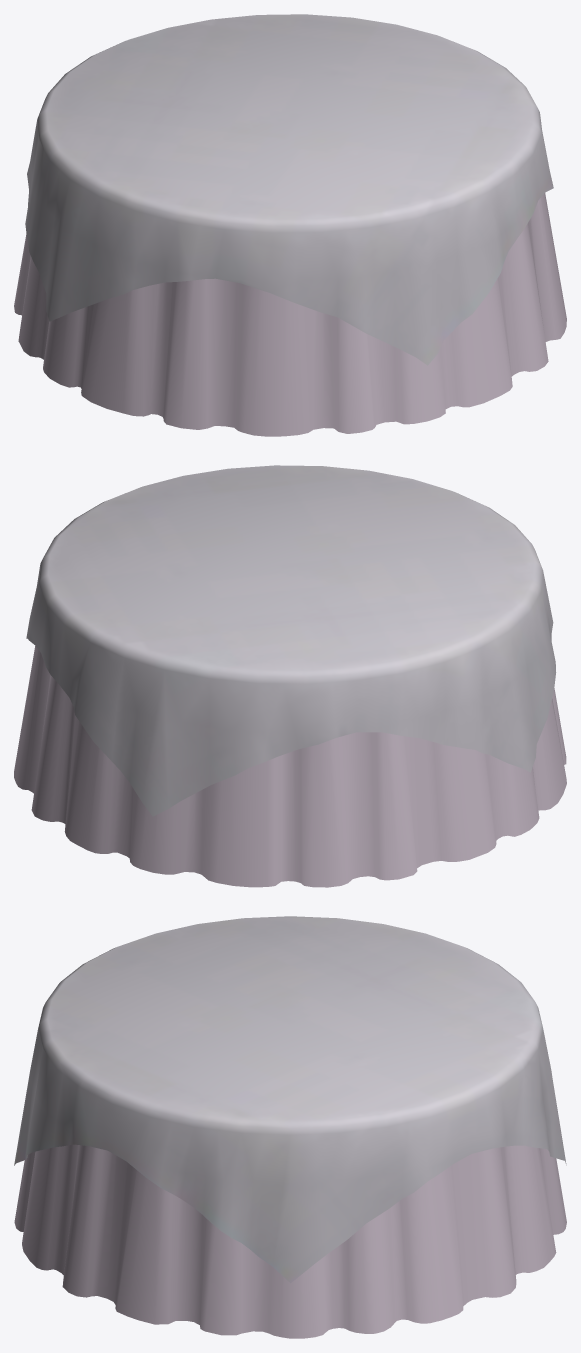
The picture shows the model from 3 angles, top to bottom: view 1: azimuth 30°, elevation 25°; view 2: azimuth 150°, elevation 25°; view 3: azimuth 270°, elevation 25°; orthographic projection.
Size of the model in its own units: 19.88 by 8.5 by 19.86.
Materials: 2 (2 with a texture image).
